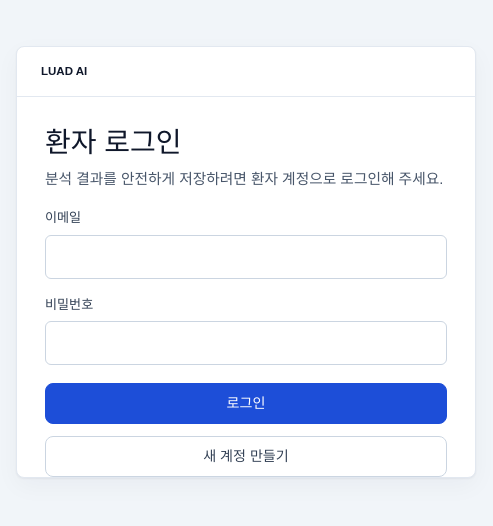
Scenario: shows a Korean message for {"code":"invalid_credentials","message":"Invalid login credentials"}
In the field labelled "이메일": {"x": 246, "y": 257} [45,235,447,279], type "test@example.com"
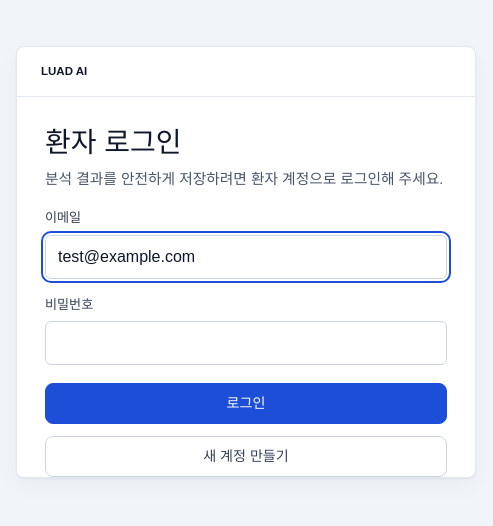
In the password field labelled "비밀번호": {"x": 246, "y": 343} [45,321,447,365], type "wrong-password"
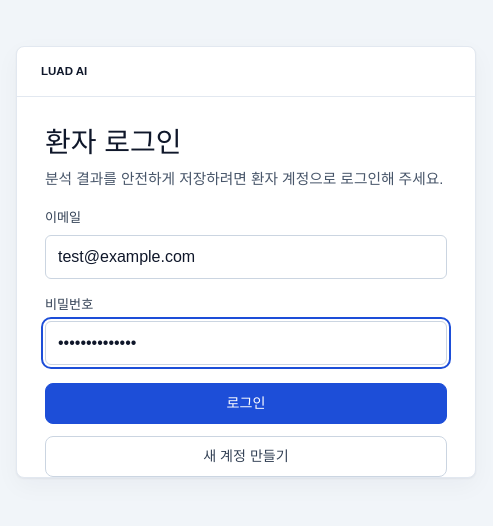
Click the button "로그인": {"x": 246, "y": 404} [45,383,447,424]
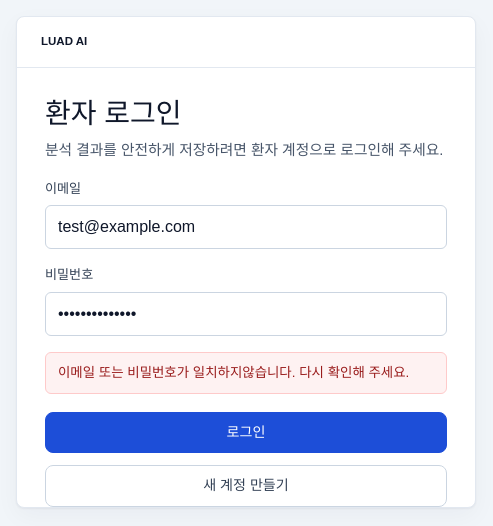
Expected: the button "로그인" is enabled, [45,412,447,453]
Result: the text "이메일 또는 비밀번호가 일치하지않습니다. 다시 확인해 주세요." is shown at [45,352,447,394]
